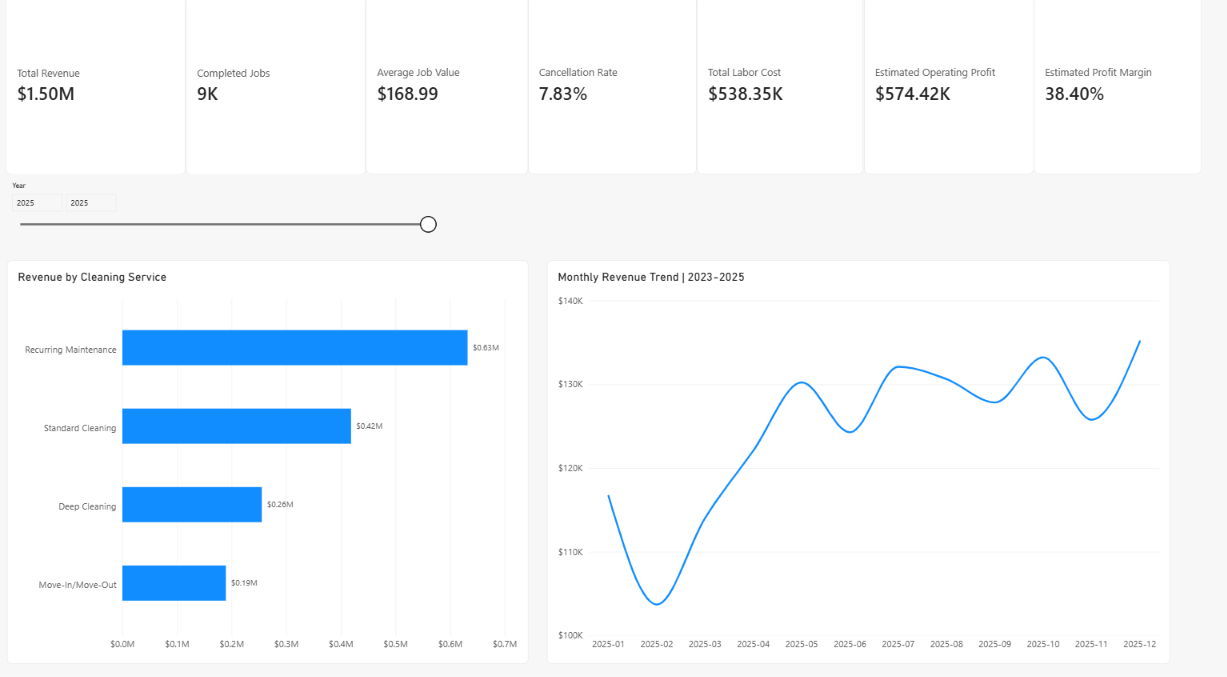

What the dashboard file says about the page in this screenshot:
{"tool":"powerbi","page":{"name":"Executive Overview","canvas":[1920,1080],"ordinal":0},"visuals":[{"type":"cardVisual","fields":{"Data":["bookings.Total Revenue"]},"box":[10,0,280,280],"z":0},{"type":"cardVisual","fields":{"Data":["bookings.Completed Jobs"]},"box":[290.2,0,280,280],"z":1},{"type":"cardVisual","fields":{"Data":["bookings.Average Job Value"]},"box":[570.2,0,253.2,279.9],"z":2},{"type":"cardVisual","fields":{"Data":["bookings.Cancellation Rate"]},"box":[823.3,0,263.5,279.9],"z":3},{"type":"cardVisual","fields":{"Data":["job_assignments.Total Labor Cost"]},"box":[1086.8,0,259.3,279.9],"z":4},{"type":"cardVisual","fields":{"Data":["bookings.Estimated Operating Profit"]},"box":[1346.1,0,265.5,279.9],"z":5},{"type":"slicer","fields":{"Values":["Date Table.Year"]},"box":[10.3,290.2,673.1,123.5],"z":6},{"type":"lineChart","title":"Monthly Revenue Trend | 2023-2025","fields":{"Category":["Date Table.Year-Month"],"Y":["bookings.Total Revenue"]},"box":[852.1,413.7,971.5,629.8],"z":7},{"type":"clusteredBarChart","title":"Revenue by Cleaning Service","fields":{"Category":["services.service_name"],"Y":["bookings.Total Revenue"]},"box":[10.3,413.7,813,629.8],"z":8},{"type":"cardVisual","fields":{"Data":["bookings.Estimated Profit Margin"]},"box":[1611.7,0,261.4,279.9],"z":9}]}

Visuals, with their boxes in screenshot pixels (x1, y1, x2, y2), scaled from the page's 1920x1080 canvas onto the 1227x677 screenshot:
cardVisual - bookings.Total Revenue: box=[6, 0, 185, 176]
cardVisual - bookings.Completed Jobs: box=[185, 0, 364, 176]
cardVisual - bookings.Average Job Value: box=[364, 0, 526, 175]
cardVisual - bookings.Cancellation Rate: box=[526, 0, 695, 175]
cardVisual - job_assignments.Total Labor Cost: box=[695, 0, 860, 175]
cardVisual - bookings.Estimated Operating Profit: box=[860, 0, 1030, 175]
slicer - Date Table.Year: box=[7, 182, 437, 259]
"Monthly Revenue Trend | 2023-2025" lineChart: box=[545, 259, 1165, 654]
"Revenue by Cleaning Service" clusteredBarChart: box=[7, 259, 526, 654]
cardVisual - bookings.Estimated Profit Margin: box=[1030, 0, 1197, 175]
